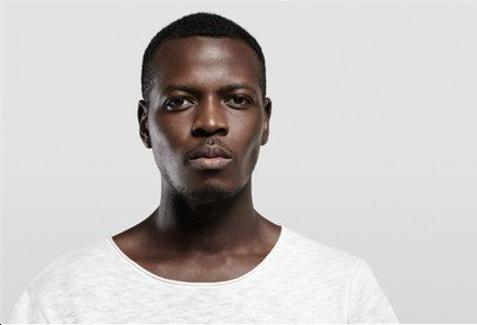Sober: (150, 42, 267, 186)
